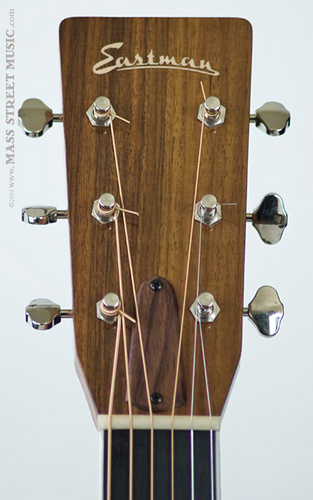guitar: (17, 13, 292, 500)
